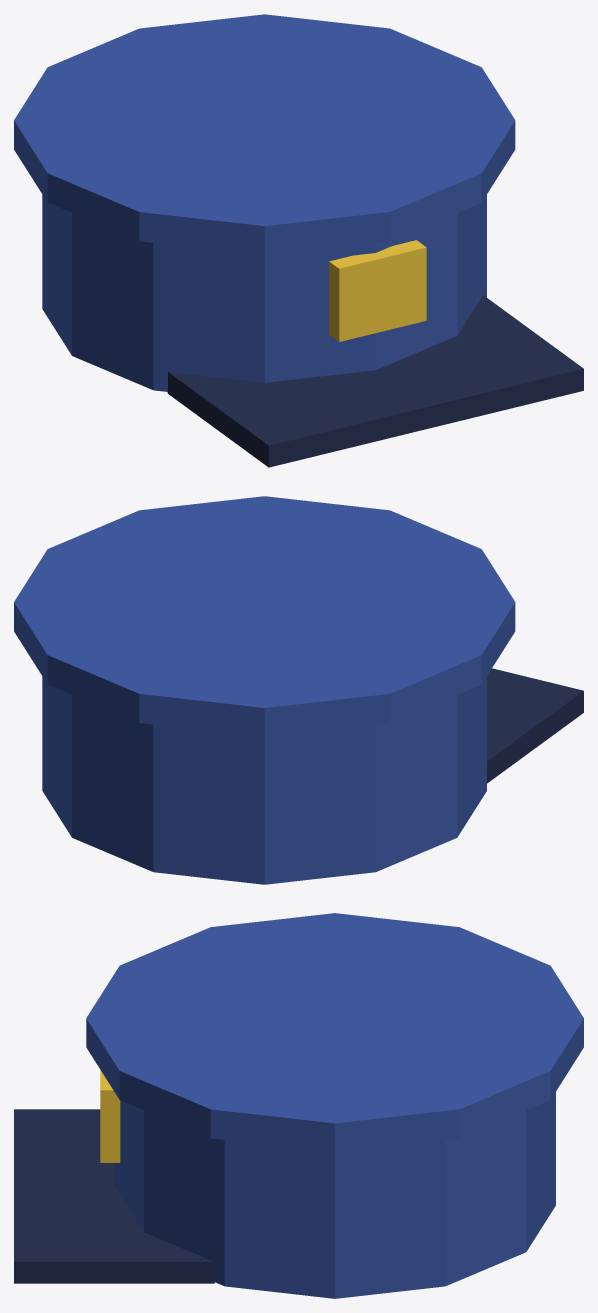
Rendered from GruffHat.fbx.
3 renders of one model, top to bottom at view 1: azimuth 30°, elevation 25°; view 2: azimuth 150°, elevation 25°; view 3: azimuth 270°, elevation 25°, orthographic.
Parts seen in each view (by area): view 1: Cap, Brim, Badge; view 2: Cap, Brim; view 3: Cap, Brim, Badge.
Part boxes in pixels (box(x1,y1,x2,y2)): Cap: box(14, 14, 515, 391); Brim: box(167, 295, 583, 467); Badge: box(329, 240, 426, 341); Cap: box(14, 496, 515, 884); Brim: box(487, 668, 583, 783); Cap: box(86, 913, 583, 1298); Brim: box(14, 1109, 214, 1283); Badge: box(100, 1070, 120, 1162).
Bounding box in the file's own units: 1.24 × 0.52 × 1.42.
